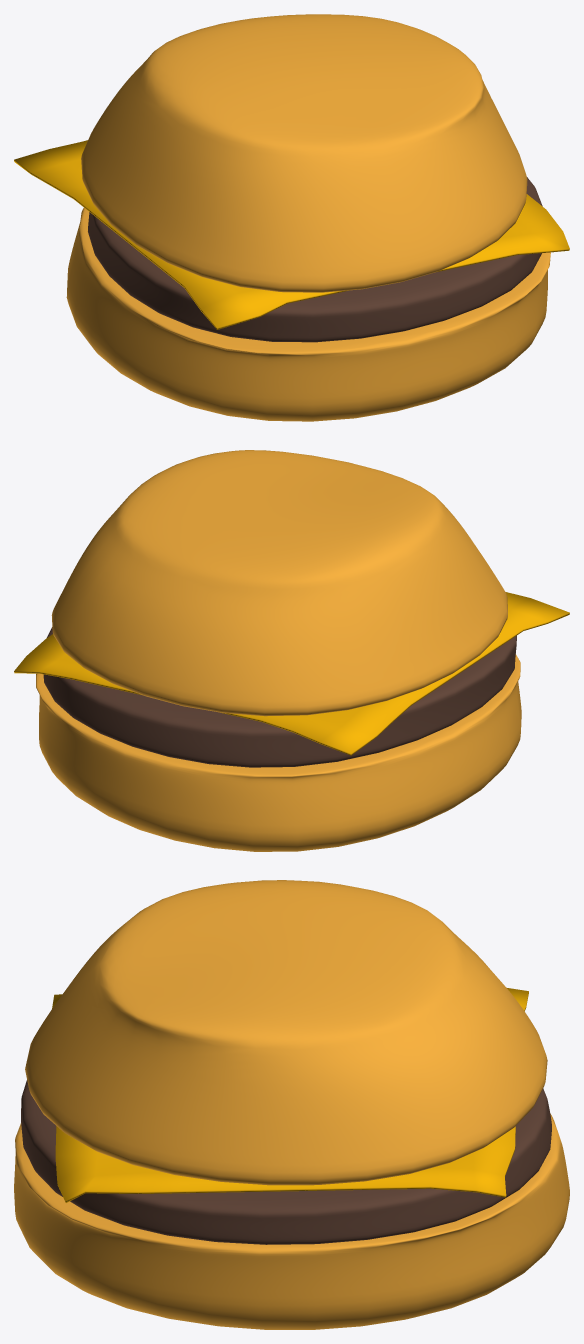
File: Hamburger.glb
3 views of the same model, one above another, from view 1: azimuth 30°, elevation 25°; view 2: azimuth 150°, elevation 25°; view 3: azimuth 270°, elevation 25° (orthographic). The views are drawn at different scales.
Parts seen in each view (by area): view 1: Cube.003, Cube.001, Cube.002, Plane; view 2: Cube.003, Cube.001, Cube.002, Plane; view 3: Cube.003, Cube.001, Cube.002, Plane.
Boxes of the visible parts, bbox=[...] form: Cube.003: bbox=[81, 14, 527, 292]; Cube.001: bbox=[66, 208, 550, 421]; Cube.002: bbox=[88, 177, 542, 342]; Plane: bbox=[14, 140, 569, 329]; Cube.003: bbox=[51, 450, 507, 716]; Cube.001: bbox=[36, 654, 521, 851]; Cube.002: bbox=[43, 627, 516, 767]; Plane: bbox=[14, 592, 569, 755]; Cube.003: bbox=[25, 880, 547, 1185]; Cube.001: bbox=[14, 1113, 569, 1329]; Cube.002: bbox=[21, 1080, 551, 1244]; Plane: bbox=[52, 988, 528, 1202].
Size of the model in its own units: 17.94 by 11.68 by 18.98.
